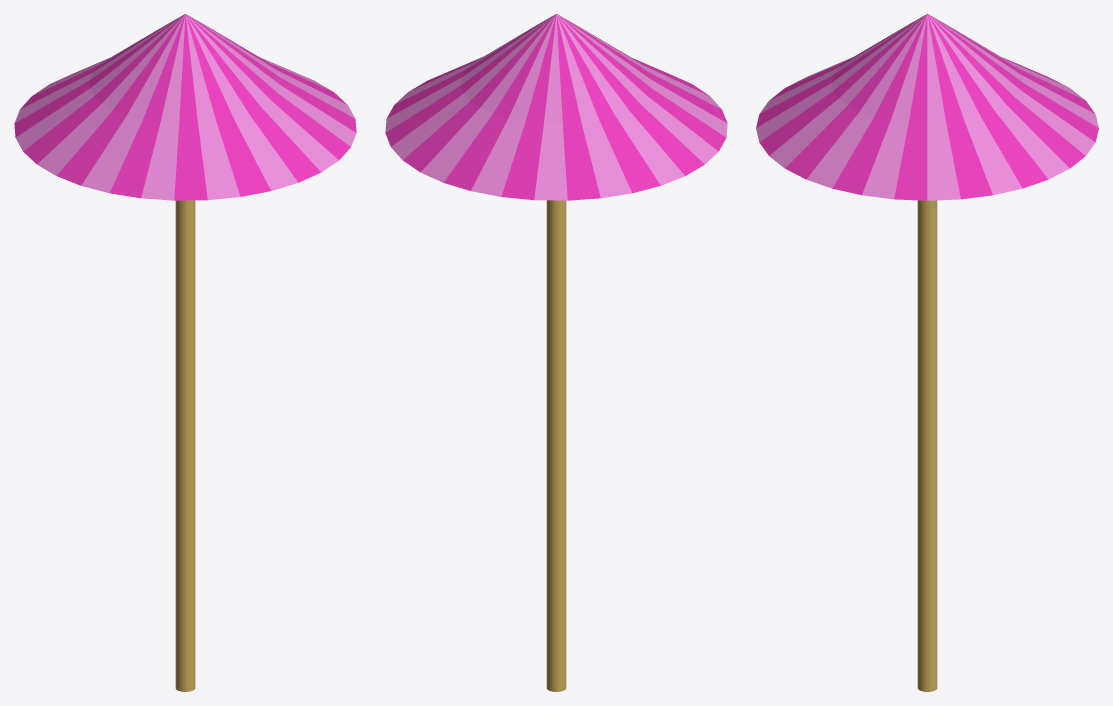
Rendered from sombrillitaChikita.fbx.
3 renders of one model, left to right at view 1: azimuth 30°, elevation 25°; view 2: azimuth 150°, elevation 25°; view 3: azimuth 270°, elevation 25°, orthographic.
Parts seen in each view (by area): view 1: Sombrilla; view 2: Sombrilla; view 3: Sombrilla.
Part boxes in pixels (bbox=[...]): Sombrilla: bbox=[14, 14, 356, 691]; Sombrilla: bbox=[385, 14, 727, 691]; Sombrilla: bbox=[756, 14, 1098, 691].
Size of the model in its own units: 29.14 by 63.13 by 29.14.
